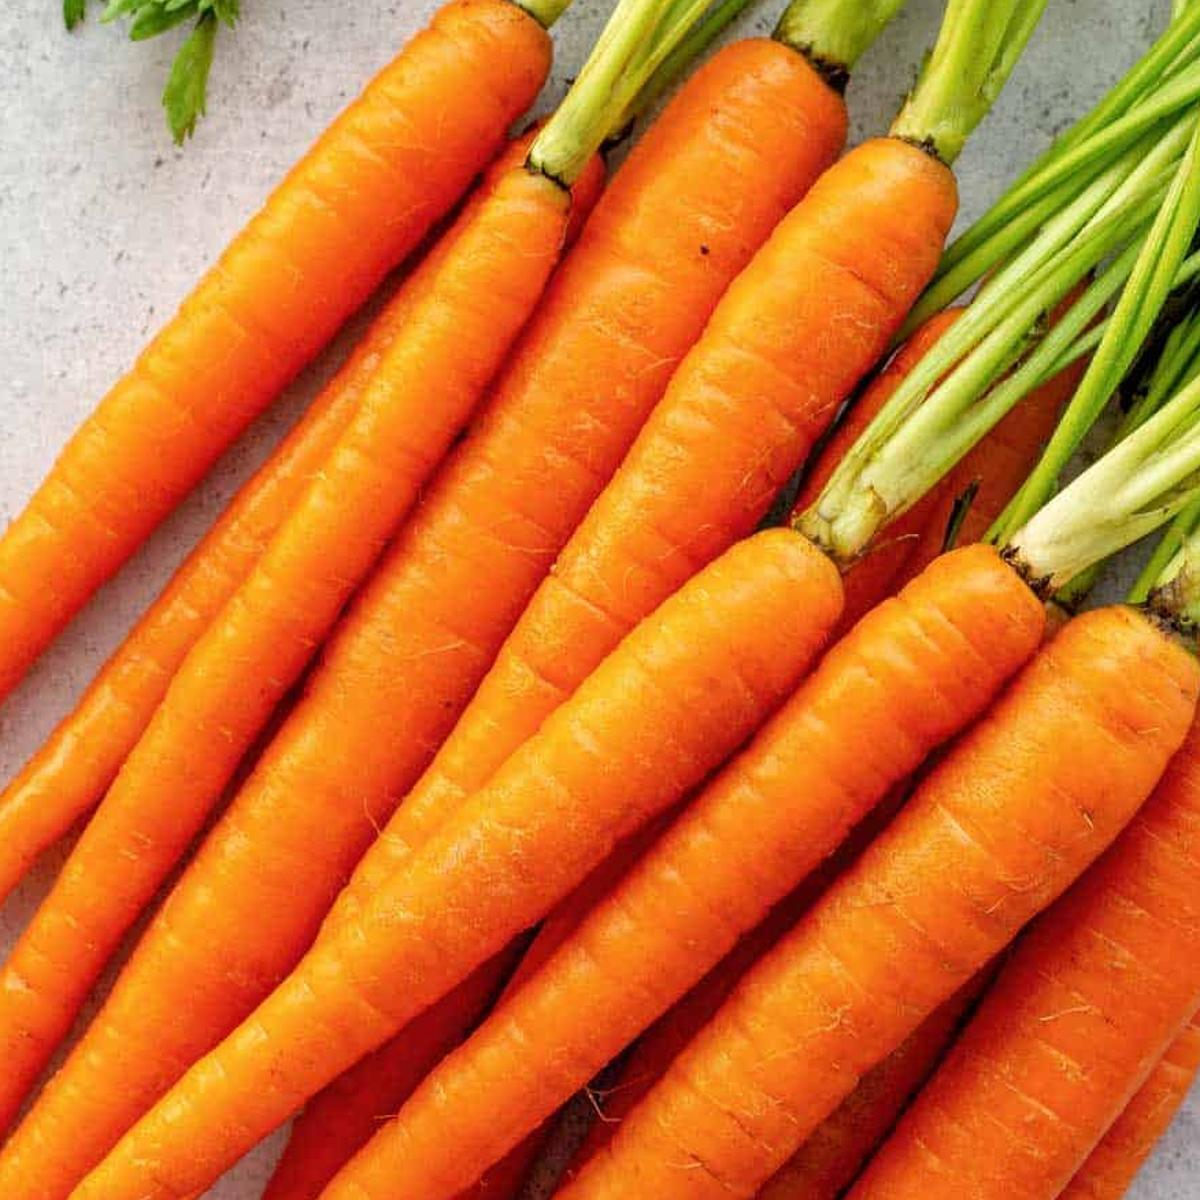carrot: (0, 148, 984, 1200), (153, 446, 1200, 1200), (384, 40, 888, 1200)
